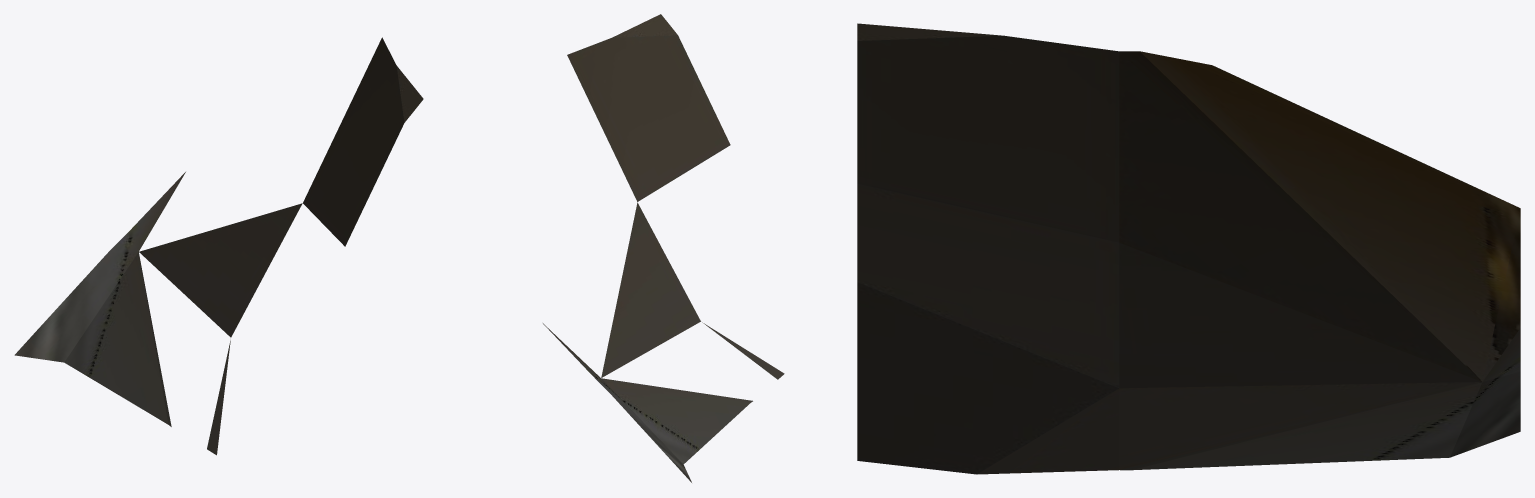
The picture shows the model from 3 angles, left to right: view 1: azimuth 30°, elevation 25°; view 2: azimuth 150°, elevation 25°; view 3: azimuth 270°, elevation 25°; orthographic projection. The views are drawn at different scales.
Size of the model in its own units: 0.7006 by 0.8374 by 0.8373.
3 materials, 3 textured.
